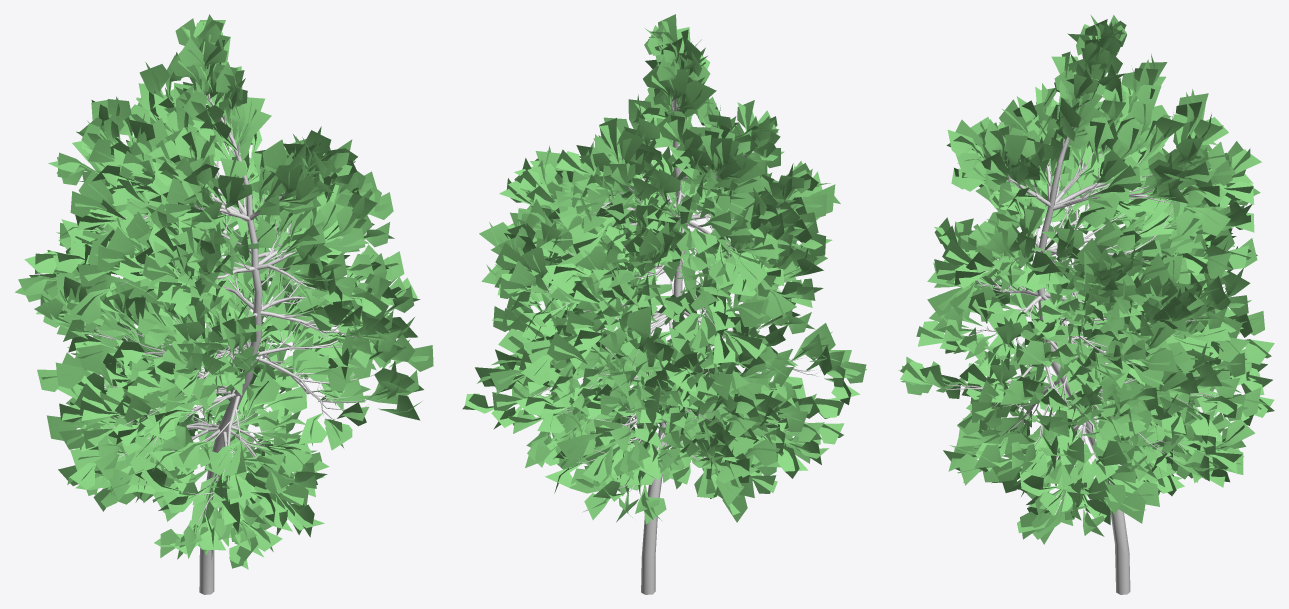
The model's file is Tree Pinus.fbx.
3 renders of one model, left to right at view 1: azimuth 30°, elevation 25°; view 2: azimuth 150°, elevation 25°; view 3: azimuth 270°, elevation 25°, orthographic. The views are drawn at different scales.
Visible parts, largest first — view 1: Tree_Pinus-ponderosa_D_spring-summer-autumn.001; view 2: Tree_Pinus-ponderosa_D_spring-summer-autumn.001; view 3: Tree_Pinus-ponderosa_D_spring-summer-autumn.001.
Boxes of the visible parts, x1=… form: Tree_Pinus-ponderosa_D_spring-summer-autumn.001: x1=15, y1=14, x2=433, y2=594; Tree_Pinus-ponderosa_D_spring-summer-autumn.001: x1=462, y1=14, x2=866, y2=594; Tree_Pinus-ponderosa_D_spring-summer-autumn.001: x1=898, y1=14, x2=1274, y2=594.
Bounding box in the file's own units: 587 × 897 × 538.
